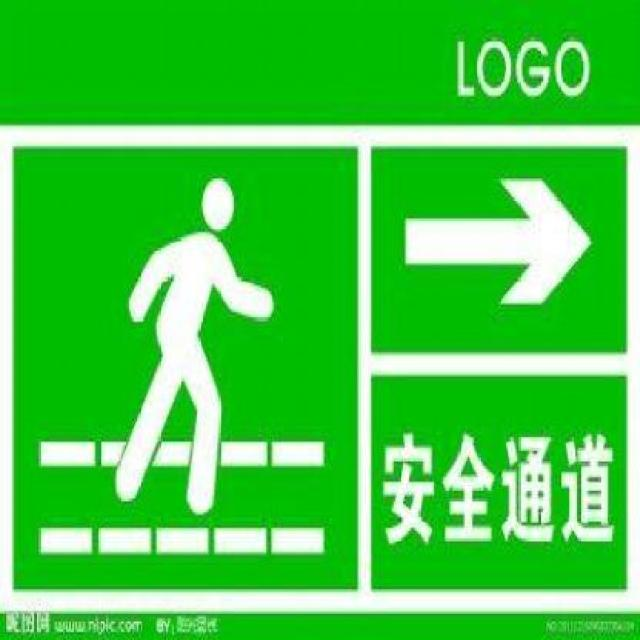exit_sign: (6, 108, 632, 606)
